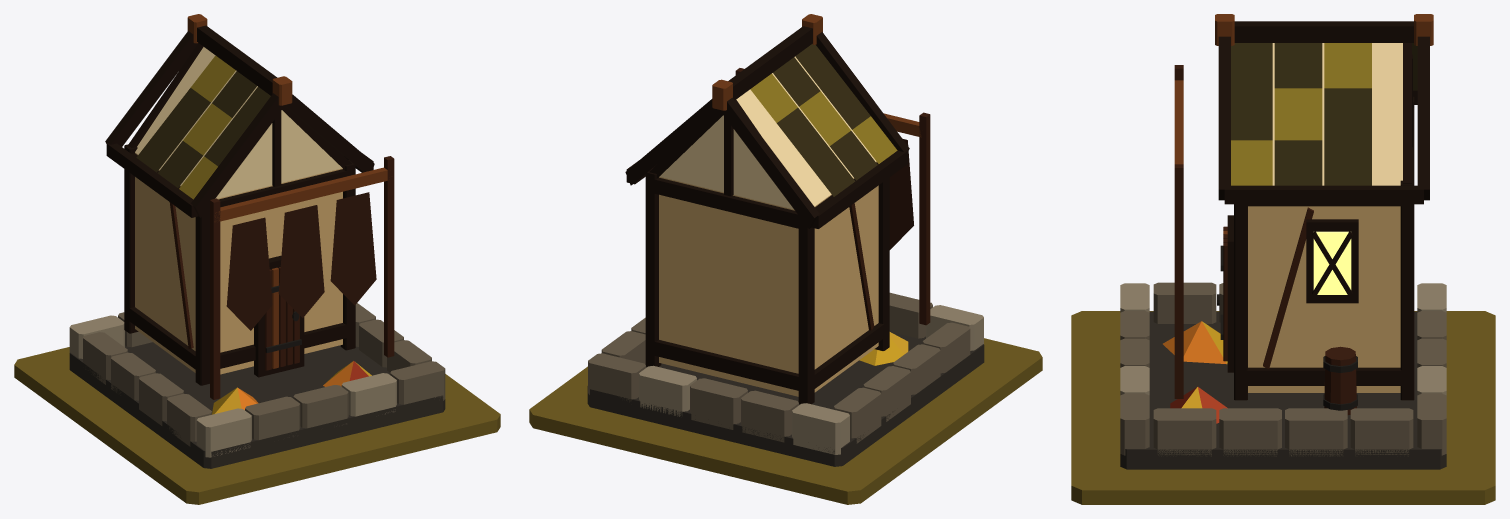
Rendered from tannery_t2.glb.
The picture shows the model from 3 angles, left to right: view 1: azimuth 30°, elevation 25°; view 2: azimuth 150°, elevation 25°; view 3: azimuth 270°, elevation 25°; orthographic projection. The views are drawn at different scales.
Visible parts, largest first — view 1: MMR | tannery | T02 Architecture.001, MMR | tannery | Tier 02 Ground.001, MMR | tannery | T02 Autumn Dressing.001; view 2: MMR | tannery | T02 Architecture.001, MMR | tannery | Tier 02 Ground.001, MMR | tannery | T02 Autumn Dressing.001; view 3: MMR | tannery | T02 Architecture.001, MMR | tannery | Tier 02 Ground.001, MMR | tannery | T02 Autumn Dressing.001.
Part boxes in pixels (x1,y1,x2,y2): MMR | tannery | T02 Architecture.001: (69,14,445,468); MMR | tannery | Tier 02 Ground.001: (14,347,500,504); MMR | tannery | T02 Autumn Dressing.001: (212,361,371,414); MMR | tannery | T02 Architecture.001: (587,14,984,466); MMR | tannery | Tier 02 Ground.001: (529,338,1042,504); MMR | tannery | T02 Autumn Dressing.001: (859,332,908,365); MMR | tannery | T02 Architecture.001: (1120,14,1446,469); MMR | tannery | Tier 02 Ground.001: (1071,311,1495,504); MMR | tannery | T02 Autumn Dressing.001: (1163,321,1227,423).
Bounding box in the file's own units: 1.3 × 1.34 × 1.3.
Materials: 2 (1 with a texture image).
